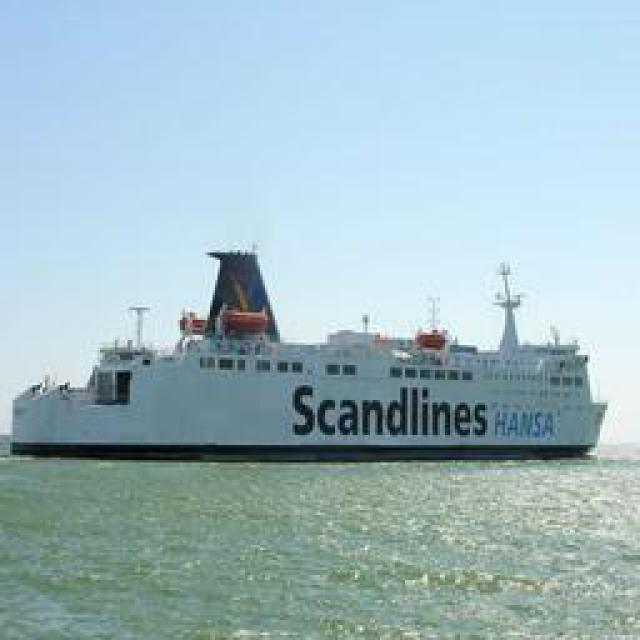Ship: (11, 239, 616, 462)
